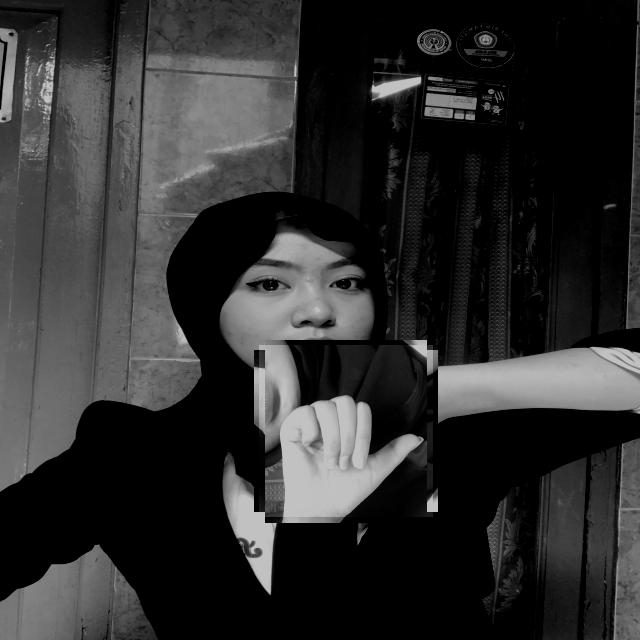sedih: (259, 345, 433, 517)
